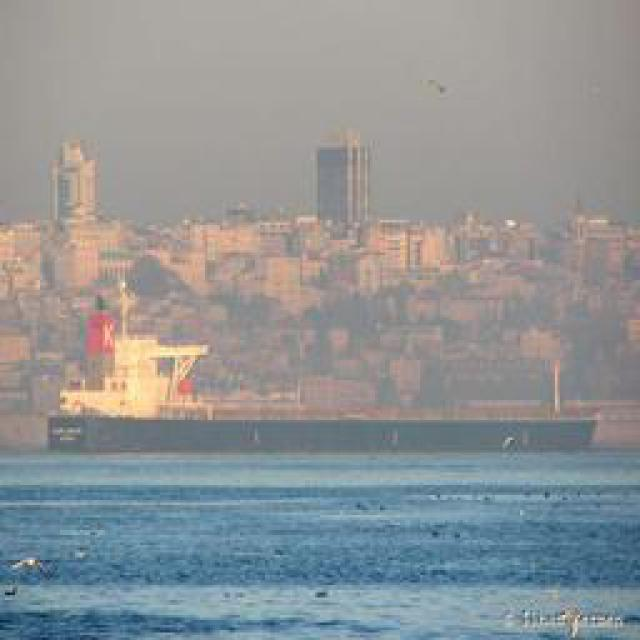Ship: (59, 363, 599, 448)
